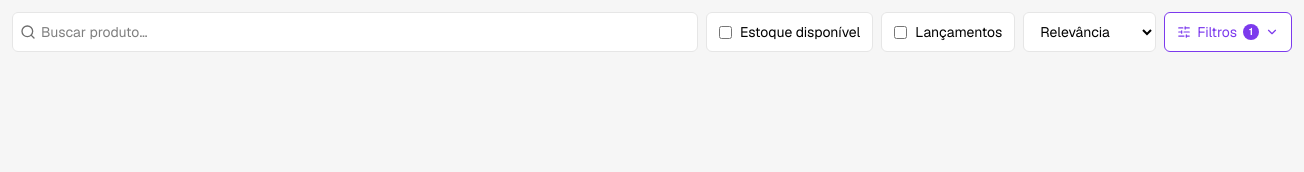
Test: CatalogFilters › keeps the active color visible even when its group is collapsed
Click the button "Filtros 1" at (1228, 32), box [1164,12,1292,52]
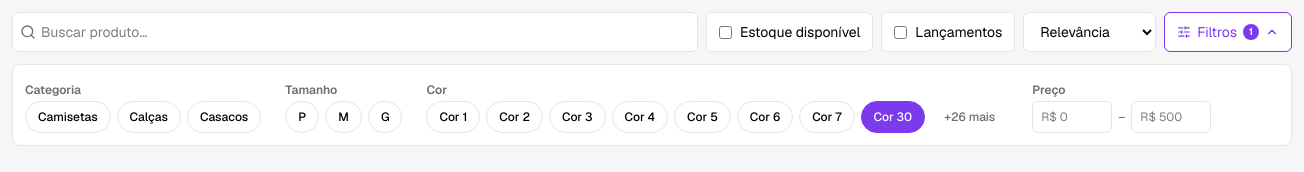
Check: the button "Cor 1" is shown, box [426,101,480,133]
Check: the button "Cor 30" is shown, box [861,101,925,133]
